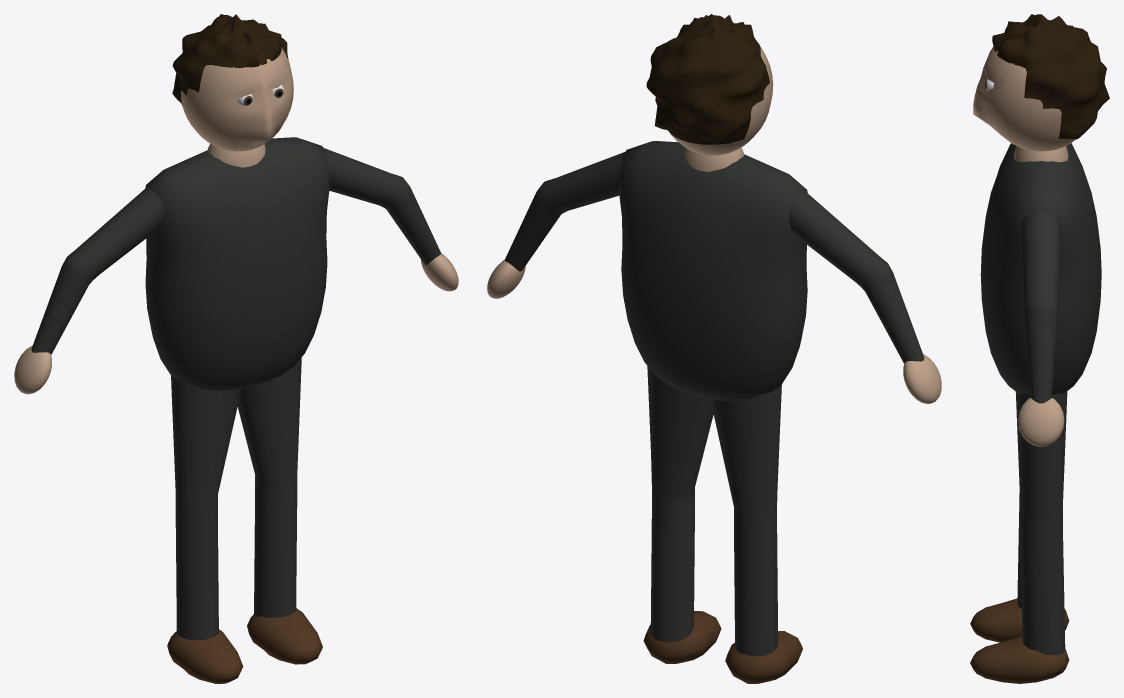
Rendered from Human.fbx.
3 views of the same model, side by side, from view 1: azimuth 30°, elevation 25°; view 2: azimuth 150°, elevation 25°; view 3: azimuth 270°, elevation 25° (orthographic). The views are drawn at different scales.
Visible parts, largest first — view 1: pCube3, pCylinder6, pCylinder2, pSphere3, pCylinder4, pSphere6, pCylinder3, pCube1, pCube2, pSphere1, pSphere2, pCylinder5; view 2: pCube3, pCylinder6, pCylinder2, pSphere6, pCylinder4, pCylinder3, pCube2, pCube1, pSphere3, pSphere1, pSphere2, pCylinder5; view 3: pCube3, pCylinder2, pSphere6, pCylinder3, pSphere3, pCube1, pSphere2, pCube2, pCylinder5, pCylinder6.
Part boxes in pixels (x1,y1,x2,y2): pCube3: (145, 137, 330, 391); pCylinder6: (171, 375, 241, 639); pCylinder2: (237, 358, 301, 617); pSphere3: (181, 47, 293, 151); pCylinder4: (31, 187, 163, 354); pSphere6: (172, 14, 288, 106); pCylinder3: (324, 148, 441, 264); pCube1: (247, 608, 322, 664); pCube2: (167, 629, 243, 683); pSphere1: (14, 345, 51, 394); pSphere2: (421, 253, 458, 291); pCylinder5: (207, 143, 265, 167); pCube3: (618, 141, 807, 400); pCylinder6: (710, 384, 781, 656); pCylinder2: (647, 366, 713, 642); pSphere6: (646, 14, 769, 144); pCylinder4: (788, 192, 924, 363); pCylinder3: (505, 152, 624, 271); pCube2: (725, 631, 802, 683); pCube1: (643, 611, 721, 663); pSphere3: (670, 46, 773, 155); pSphere1: (903, 354, 941, 403); pSphere2: (487, 259, 525, 298); pCylinder5: (684, 147, 744, 171); pCube3: (980, 143, 1101, 395); pCylinder2: (1015, 391, 1067, 655); pSphere6: (992, 14, 1109, 139); pCylinder3: (1021, 211, 1061, 403); pSphere3: (973, 46, 1075, 151); pCube1: (970, 636, 1069, 683); pSphere2: (1018, 397, 1064, 446); pCube2: (970, 598, 1069, 642); pCylinder5: (1014, 146, 1068, 162); pCylinder6: (1017, 494, 1021, 608).
Size of the model in its own units: 11.92 by 16.78 by 3.29.
